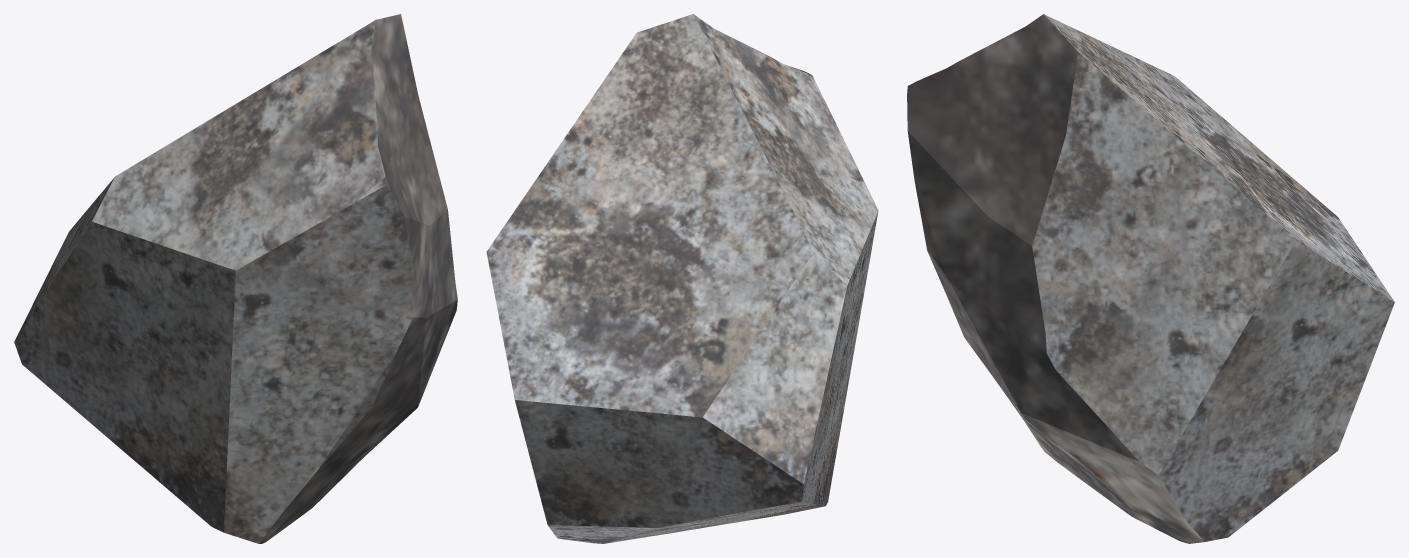
File: Asteroid_Large_001_02_007_03_013.fbx
The picture shows the model from 3 angles, left to right: view 1: azimuth 30°, elevation 25°; view 2: azimuth 150°, elevation 25°; view 3: azimuth 270°, elevation 25°; orthographic projection. The views are drawn at different scales.
Parts seen in each view (by area): view 1: Asteroid_Large_001_02_007_03_013; view 2: Asteroid_Large_001_02_007_03_013; view 3: Asteroid_Large_001_02_007_03_013.
Boxes of the visible parts, x1=… form: Asteroid_Large_001_02_007_03_013: x1=14, y1=14, x2=457, y2=543; Asteroid_Large_001_02_007_03_013: x1=486, y1=14, x2=878, y2=543; Asteroid_Large_001_02_007_03_013: x1=907, y1=14, x2=1394, y2=543.
Size of the model in its own units: 8.97 by 12.62 by 10.83.
